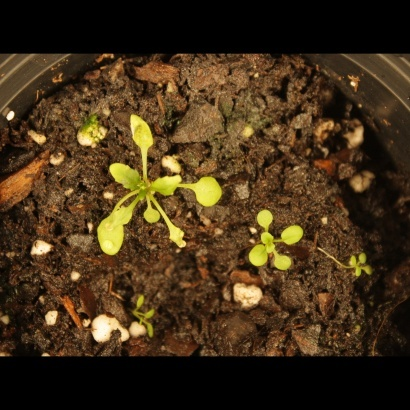leaf: (95, 213, 127, 262), (106, 156, 147, 192), (127, 111, 159, 151), (194, 174, 224, 208), (150, 171, 183, 200), (165, 222, 191, 251), (281, 222, 307, 249), (253, 204, 278, 229), (139, 204, 162, 227), (271, 253, 294, 276), (246, 246, 269, 269), (127, 287, 150, 310), (340, 267, 363, 290), (140, 322, 163, 345), (142, 297, 165, 320), (364, 267, 387, 290), (360, 242, 383, 265), (336, 242, 359, 265), (257, 227, 280, 250)
